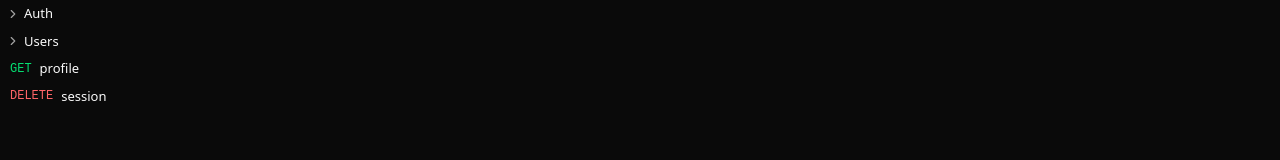
Test case: SidebarTree › should reveal a folder's children when a collapsed folder is clicked
The image size is (1280, 160).
Expected: the list item "OAuth" is not shown
Step 1. Click the list item "Auth" → (30, 13), box [6,4,53,22]
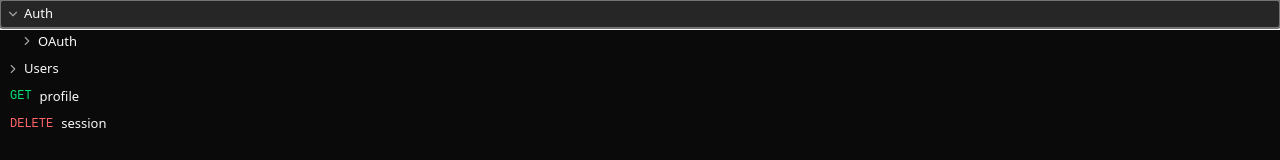
Expected: the list item "Auth" is expanded, [0,0,1279,28]
Expected: the list item "OAuth" is shown, [20,32,77,50]
